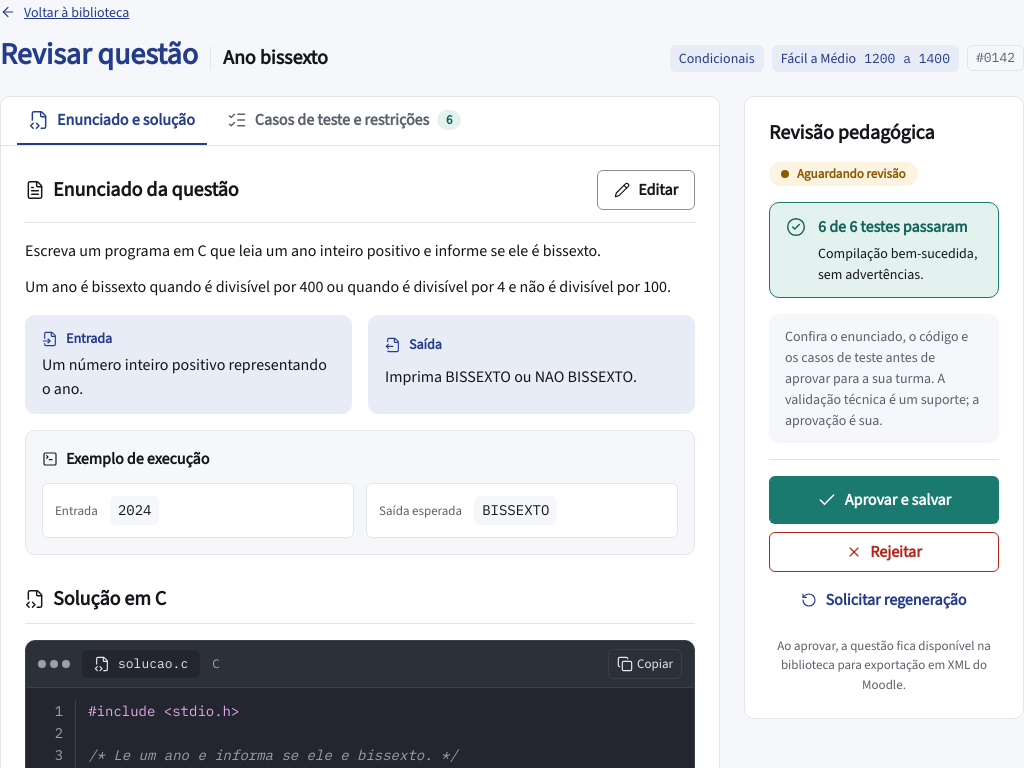
Test: ReviewView › pede confirmação antes de rejeitar
The width and height of the screenshot is (1024, 768).
Click the button "Rejeitar".
click(884, 552)  # box [769,532,999,572]
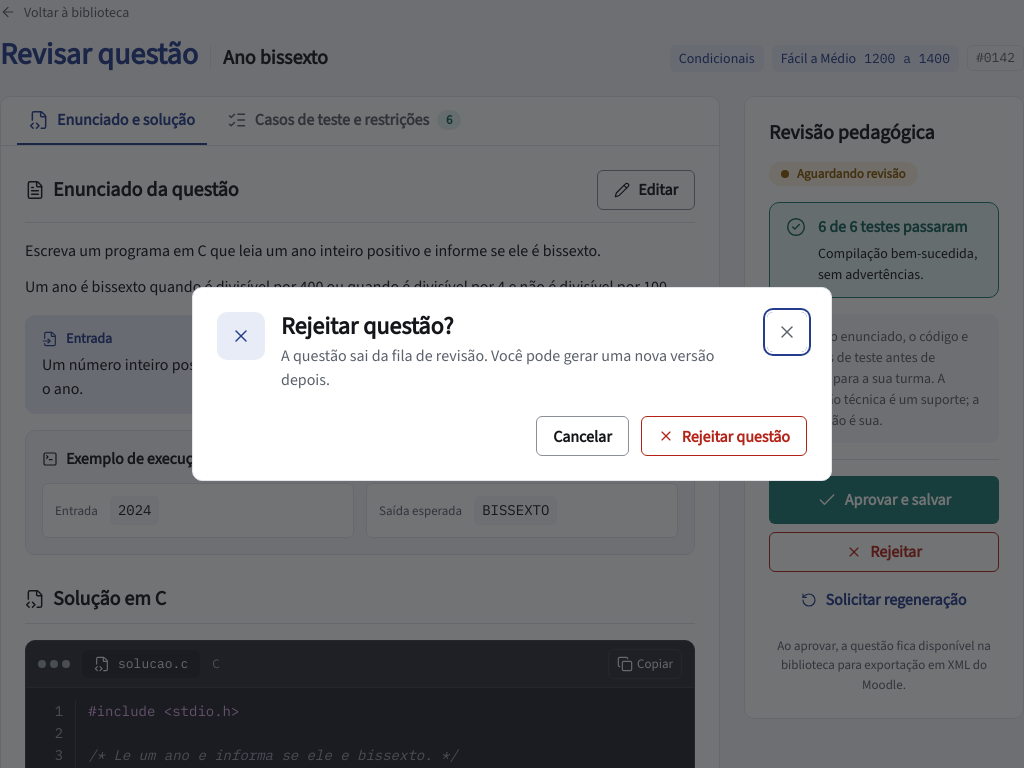
Click the button "Cancelar".
click(582, 436)  # box [536,416,629,456]
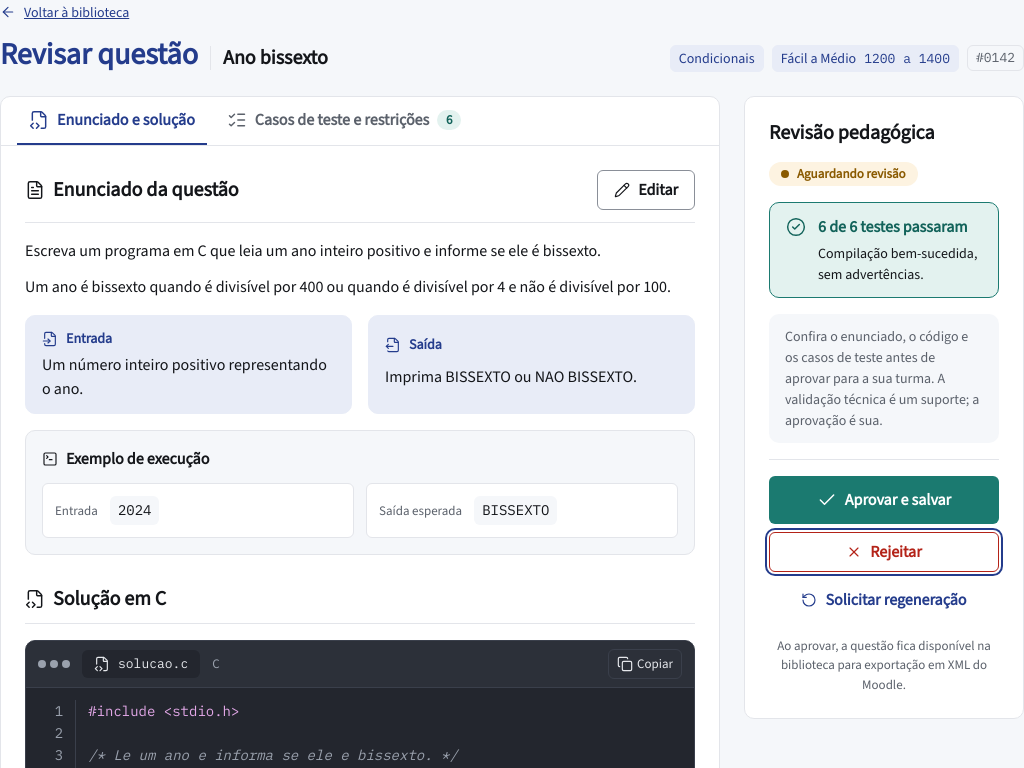
Click the button "Rejeitar".
click(884, 552)  # box [769,532,999,572]
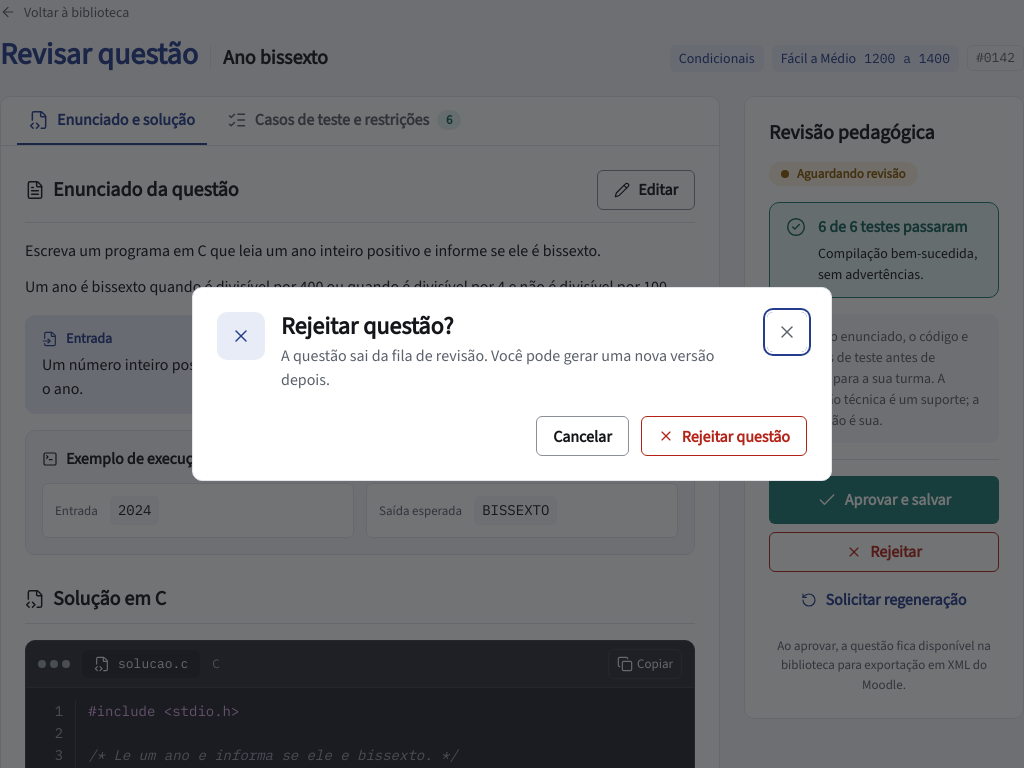
Click the button "Rejeitar questão".
click(724, 436)  # box [641,416,807,456]
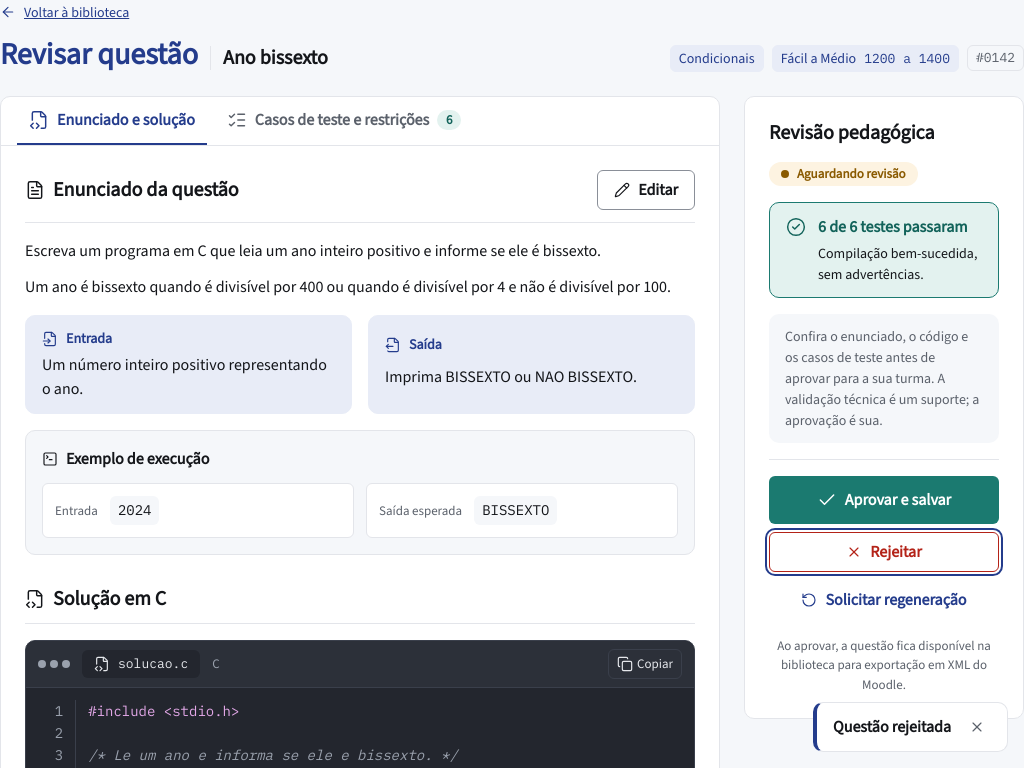
Now the text "Questão rejeitada" is shown, box [833,715,951,739]
